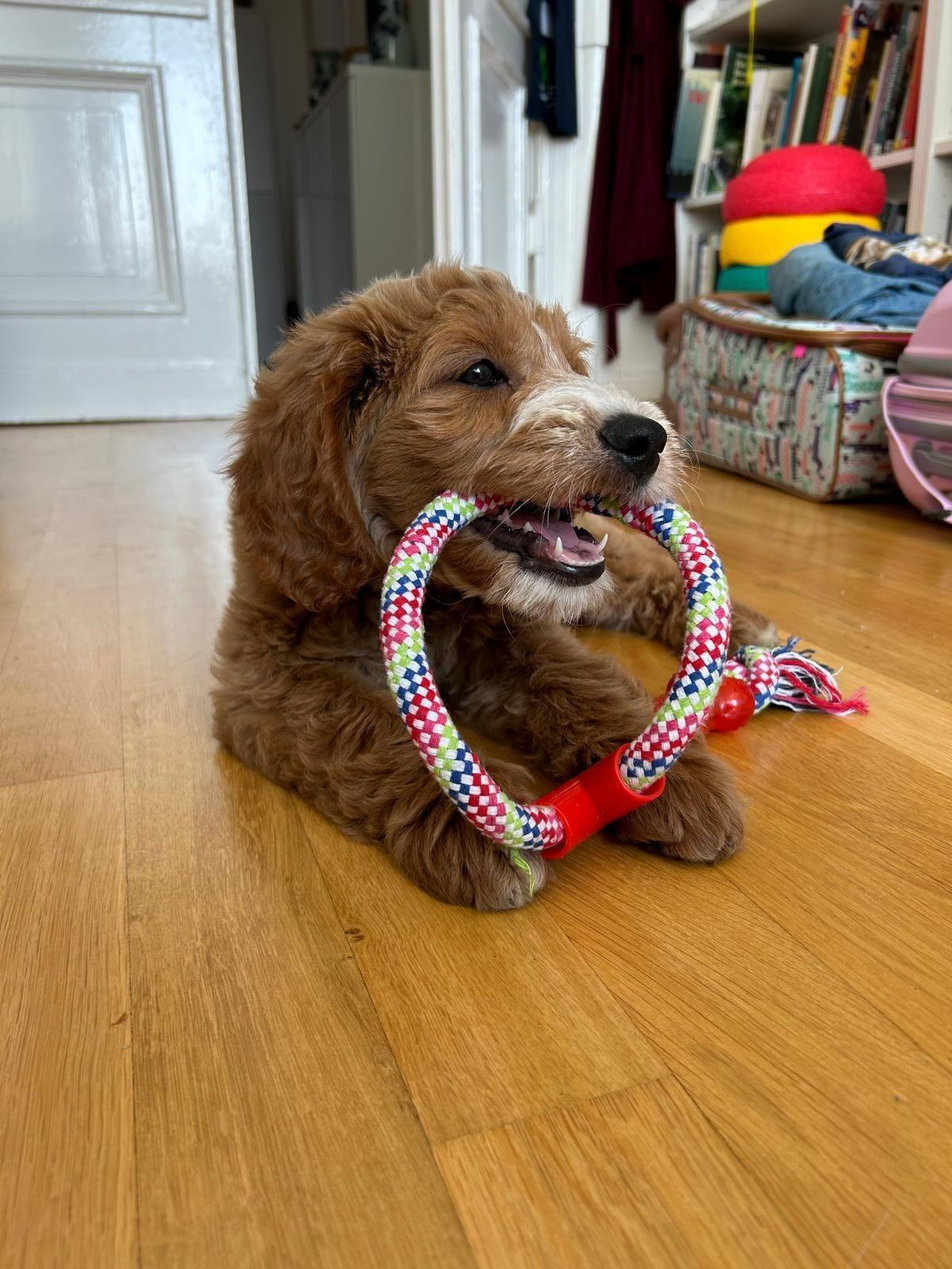puppy-dog: (210, 256, 789, 915)
